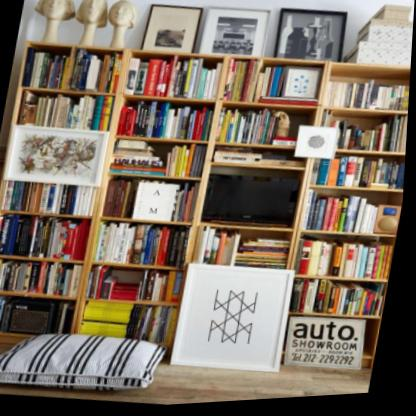Shelf: (0, 21, 414, 396)
